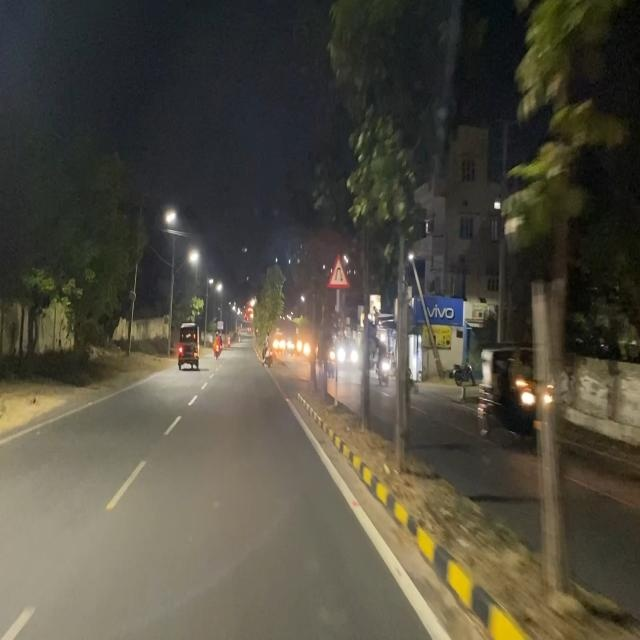bien_nguy_hiem: (328, 251, 349, 292)
